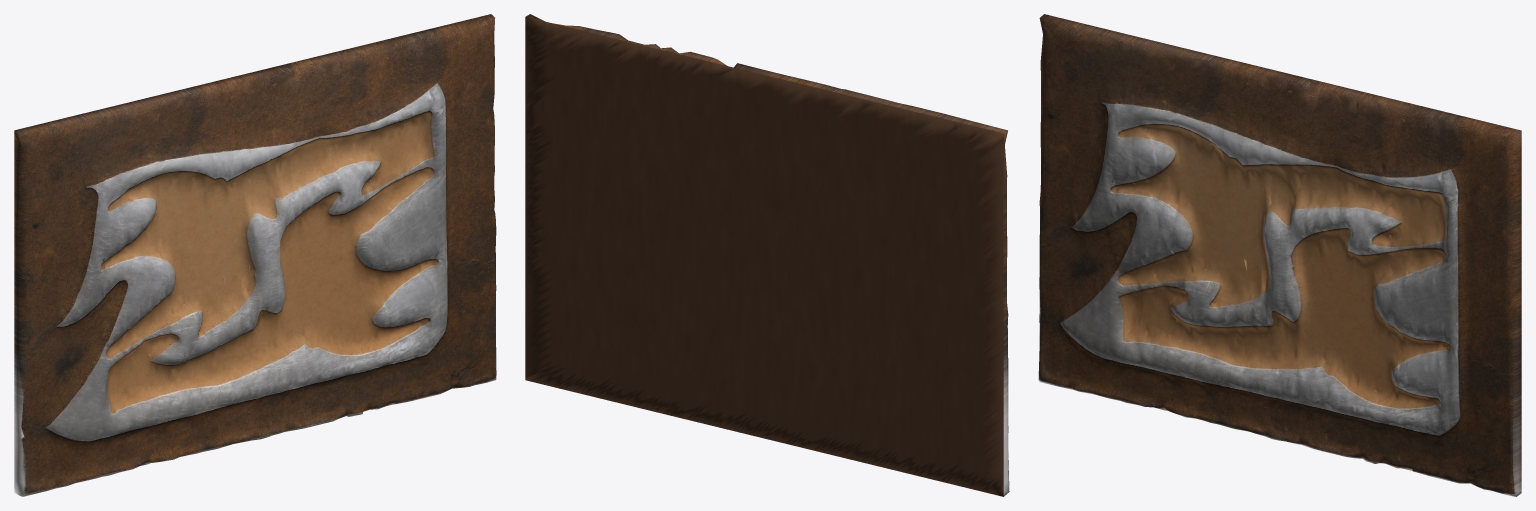
The model's file is hy3d-esc-004.glb.
The picture shows the model from 3 angles, left to right: view 1: azimuth 30°, elevation 25°; view 2: azimuth 150°, elevation 25°; view 3: azimuth 330°, elevation 25°; orthographic projection.
Visible parts, largest first — view 1: world; view 2: world; view 3: world.
Part boxes in pixels (x1,y1,x2,y2): world: [14, 14, 496, 496]; world: [525, 14, 1009, 496]; world: [1038, 14, 1521, 496].
Bounding box in the file's own units: 1.02 × 0.74 × 0.042.
Materials: 1 (1 with a texture image).
